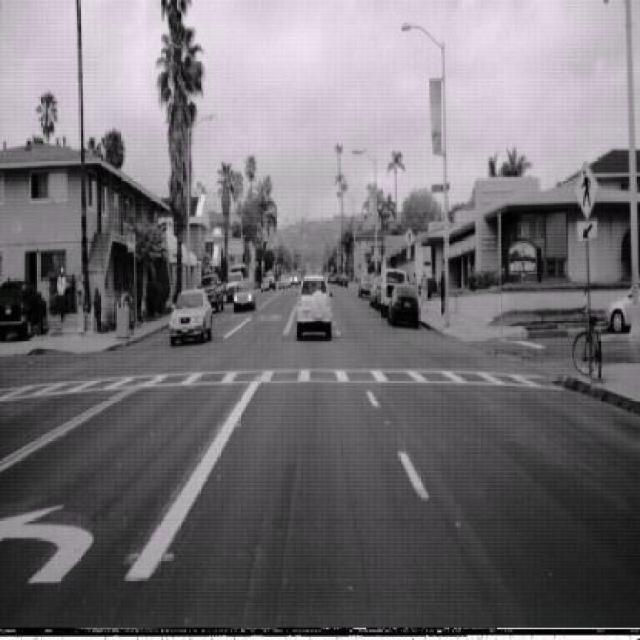pedestrianCrossing: (572, 157, 601, 219)
